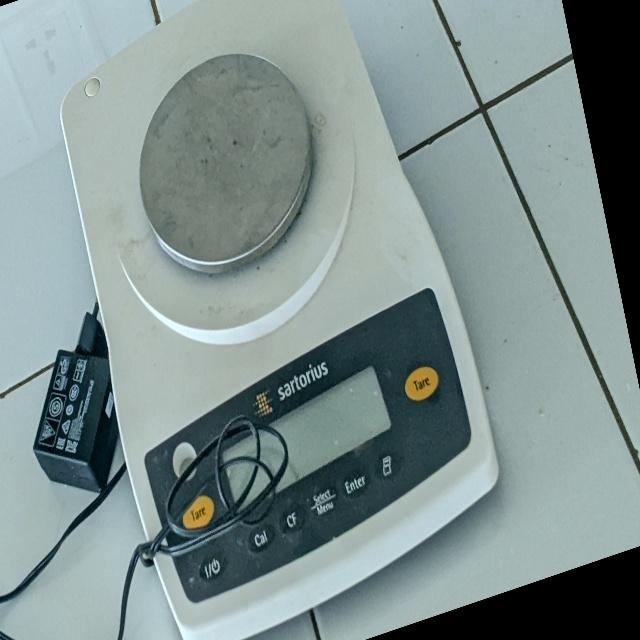Electronic Balance: (27, 0, 520, 640)
